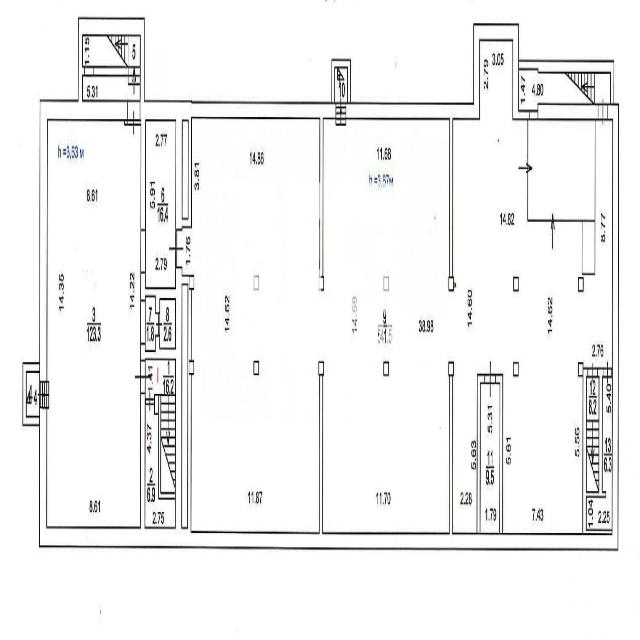Corridors: (146, 121, 175, 286), (587, 378, 612, 528), (146, 403, 175, 527), (481, 384, 499, 534), (182, 285, 187, 526), (83, 76, 128, 100), (160, 300, 175, 345), (146, 362, 161, 394), (146, 299, 155, 349), (318, 290, 324, 362), (183, 122, 187, 218), (449, 290, 453, 361)
Doors: (123, 99, 140, 138), (168, 230, 184, 268), (134, 360, 150, 395), (484, 357, 496, 397), (598, 96, 607, 129), (587, 361, 598, 385), (603, 358, 612, 385), (140, 299, 145, 344), (141, 230, 146, 273), (155, 313, 163, 335), (146, 394, 154, 413), (529, 110, 538, 119), (84, 68, 93, 75)
LBwalls: (39, 104, 619, 551), (39, 100, 127, 382), (346, 22, 519, 121), (140, 99, 336, 120), (175, 265, 182, 529), (78, 18, 144, 37), (537, 102, 598, 121), (175, 121, 183, 230), (318, 362, 324, 376), (383, 362, 389, 376), (383, 277, 389, 291), (448, 362, 454, 376), (154, 394, 158, 414), (189, 275, 194, 289), (189, 360, 194, 374), (254, 361, 259, 375), (254, 276, 259, 290), (319, 277, 324, 291), (448, 277, 453, 291), (513, 362, 518, 376), (578, 361, 583, 375), (578, 277, 583, 291), (513, 278, 518, 292)
Offices: (453, 41, 612, 535), (177, 120, 319, 532), (324, 120, 449, 531), (48, 121, 139, 526)
Stairs: (516, 119, 596, 274), (83, 36, 140, 100), (519, 69, 610, 109), (161, 360, 175, 491), (587, 379, 599, 491), (26, 373, 50, 417), (335, 68, 347, 125)
Walls: (583, 366, 612, 536), (518, 60, 614, 104), (182, 274, 192, 531), (158, 394, 176, 499), (140, 273, 176, 313), (476, 373, 484, 535), (22, 362, 40, 427), (496, 373, 503, 535), (182, 118, 192, 230), (139, 333, 175, 360), (331, 58, 351, 103), (140, 394, 145, 527), (319, 118, 323, 277), (449, 120, 453, 278), (449, 377, 453, 535), (319, 377, 323, 535), (141, 119, 145, 230), (139, 37, 144, 101), (78, 37, 82, 101), (93, 68, 127, 74), (518, 109, 529, 121), (82, 65, 84, 75)
